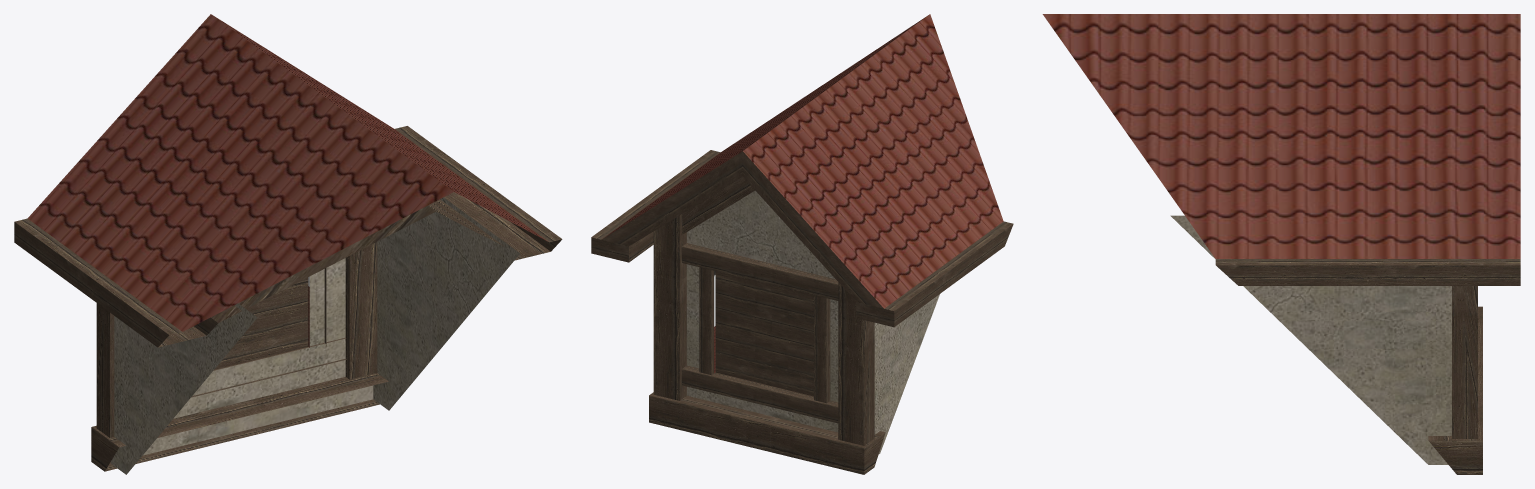
The model's file is ARC1010403.fbx.
3 views of the same model, side by side, from view 1: azimuth 30°, elevation 25°; view 2: azimuth 150°, elevation 25°; view 3: azimuth 270°, elevation 25° (orthographic). The views are drawn at different scales.
Visible parts, largest first — view 1: smARC1010403; view 2: smARC1010403; view 3: smARC1010403.
Boxes of the visible parts, x1=… form: smARC1010403: x1=14, y1=14, x2=562, y2=474; smARC1010403: x1=591, y1=14, x2=1013, y2=474; smARC1010403: x1=1042, y1=14, x2=1520, y2=474.
Bounding box in the file's own units: 213 × 207 × 228.
Materials: 1 (1 with a texture image).
